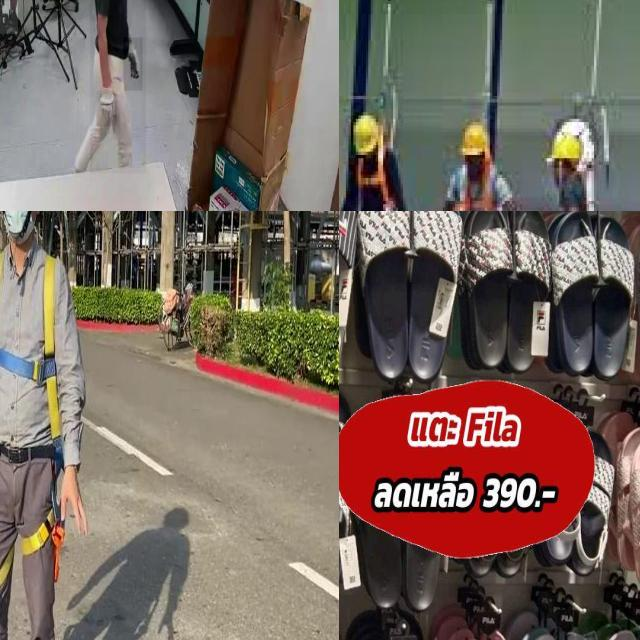Harness: (0, 255, 61, 442), (0, 515, 65, 592), (349, 153, 407, 211), (448, 166, 509, 211)
Sandals: (354, 211, 461, 393), (452, 211, 549, 372), (542, 211, 637, 370), (617, 417, 640, 594)
hand_glove: (123, 38, 143, 92), (96, 91, 118, 127)
person: (89, 0, 146, 174)
shoes: (3, 5, 23, 39)
